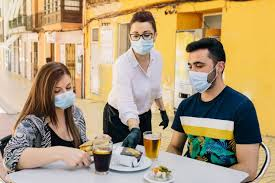mask: (188, 70, 211, 93), (53, 90, 75, 109), (131, 38, 154, 54)
